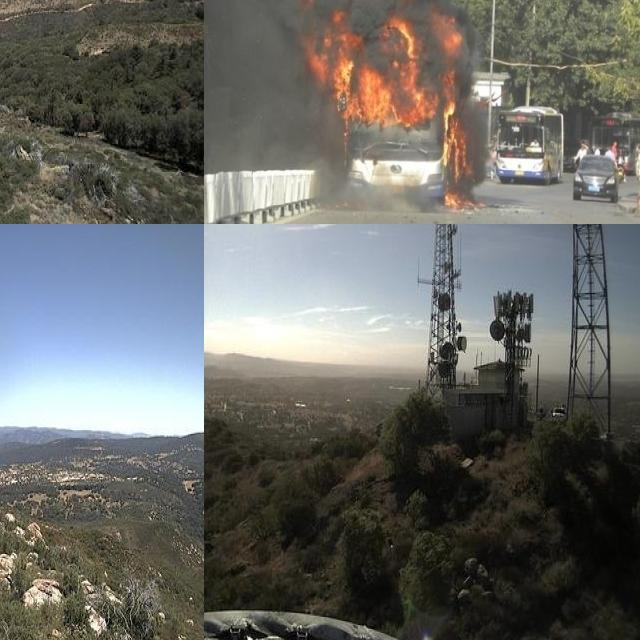fire: (309, 0, 478, 214)
smoke: (204, 0, 500, 157), (314, 167, 427, 220)
